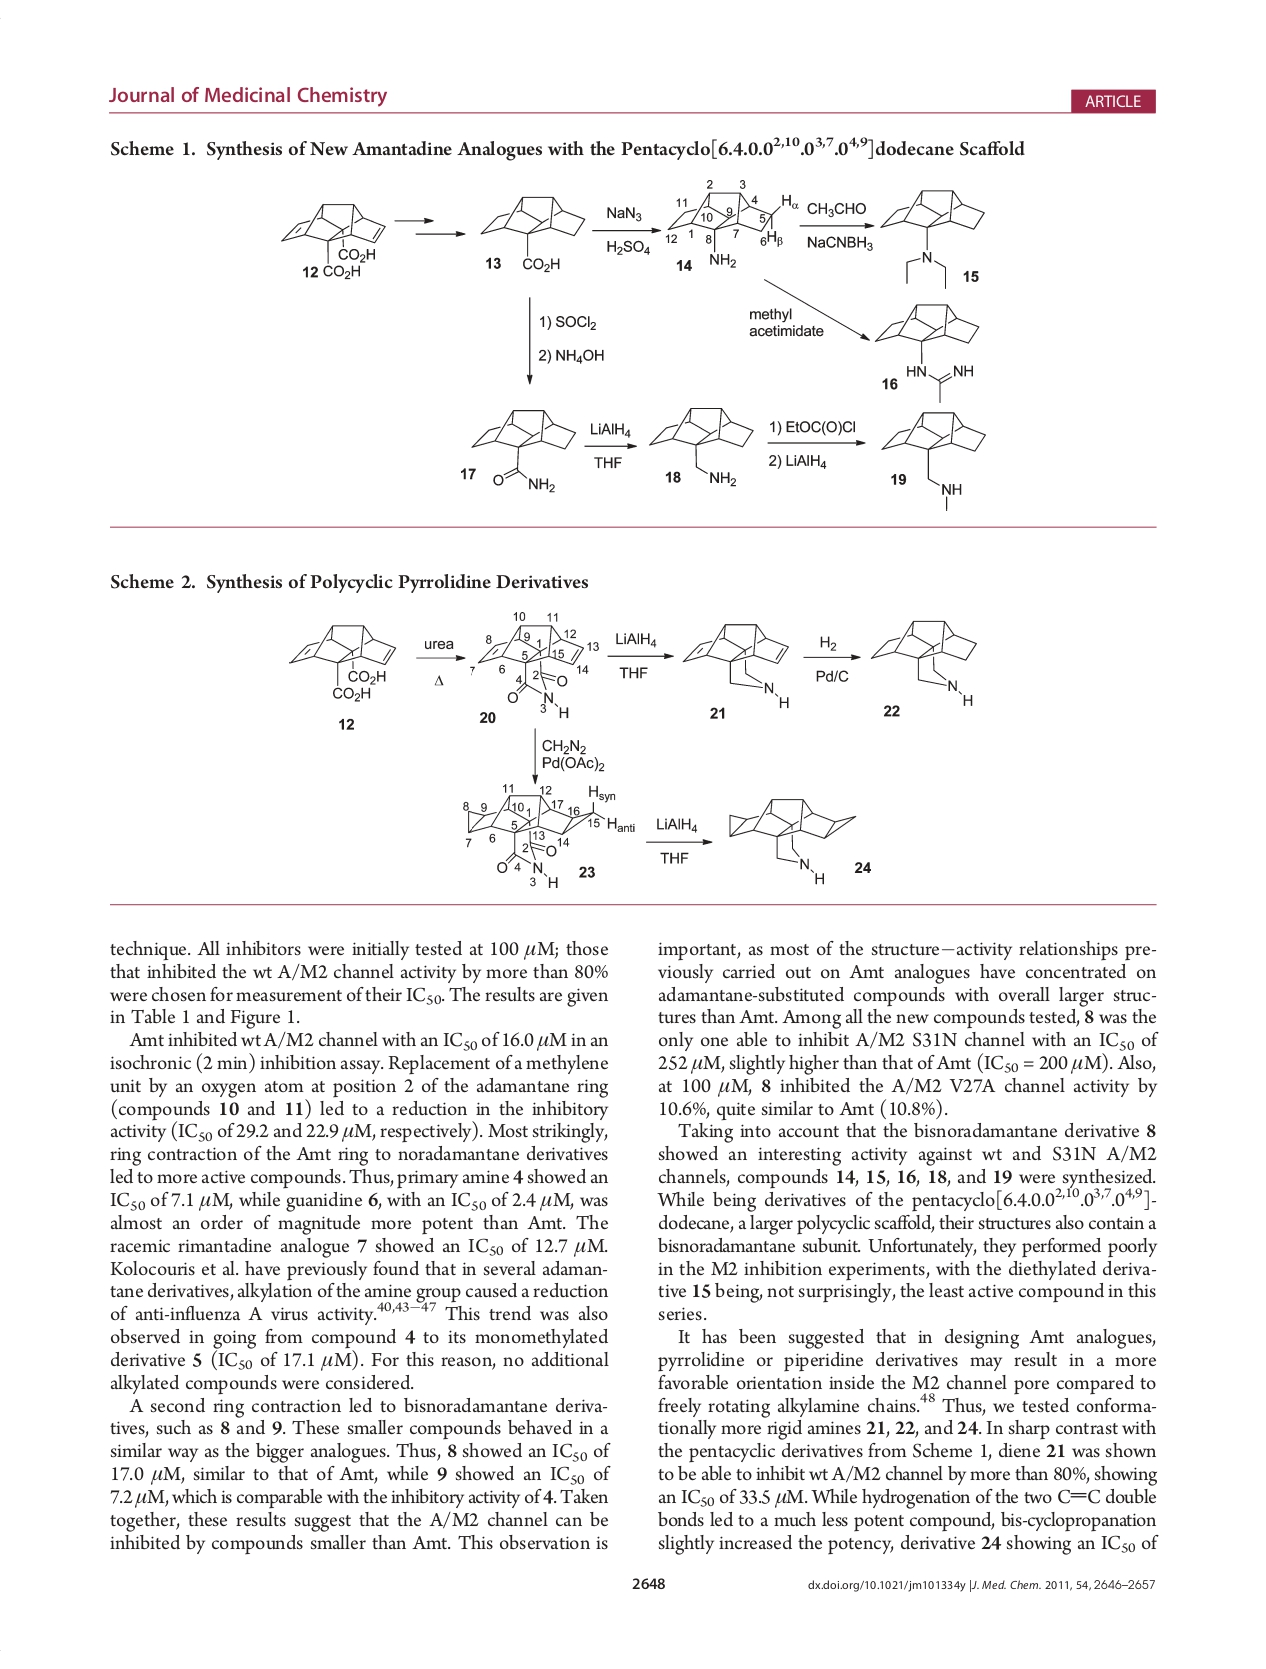exist_molecular: (465, 785, 638, 888), (727, 797, 856, 886), (876, 188, 987, 290), (880, 408, 987, 513), (665, 188, 799, 269), (874, 301, 979, 403), (476, 622, 586, 719), (867, 617, 977, 707), (680, 621, 793, 709), (469, 406, 578, 495), (645, 402, 755, 488), (285, 621, 396, 704), (477, 192, 586, 273), (281, 201, 388, 281)
